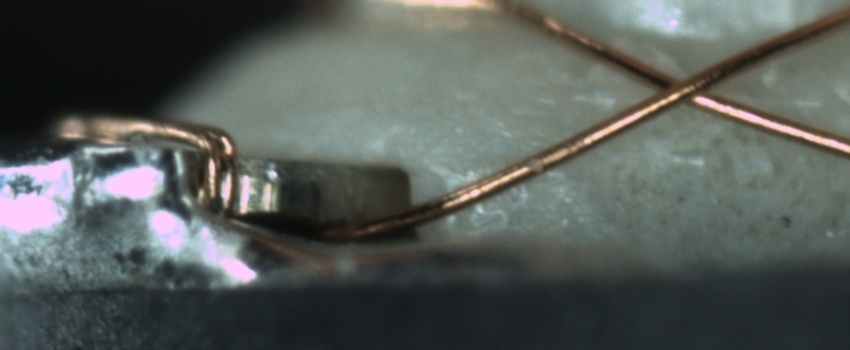CL: (629, 54, 737, 118)
DL: (443, 148, 576, 193)
TE: (56, 102, 245, 211)
